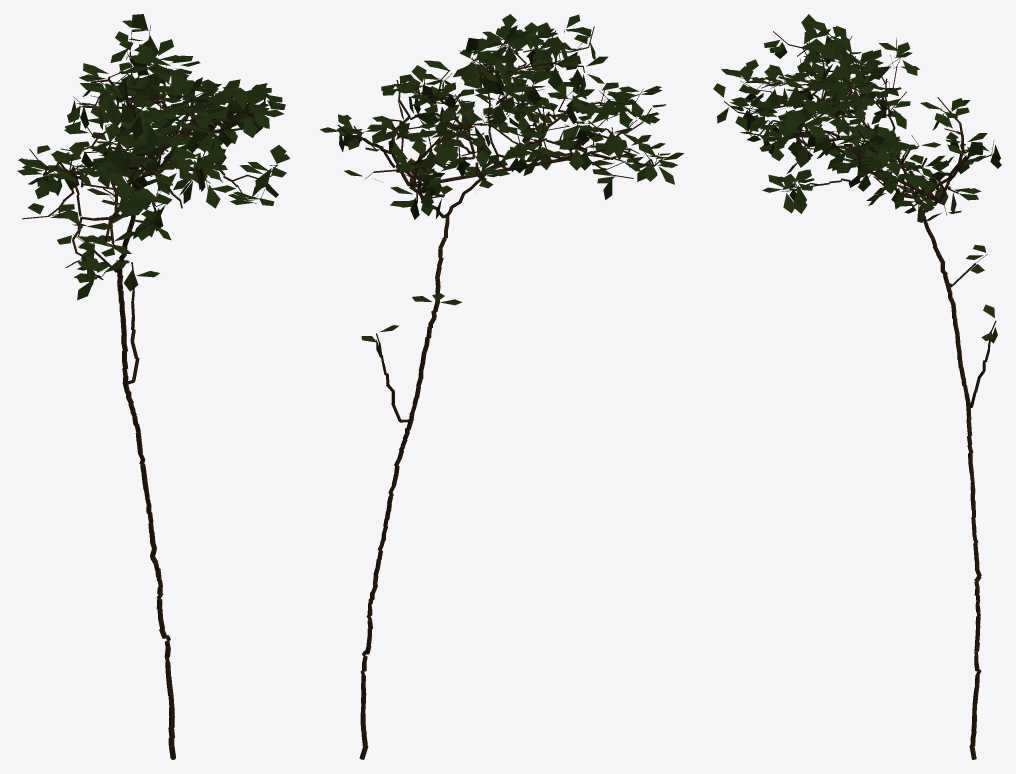
File: tree_453.obj
The picture shows the model from 3 angles, left to right: view 1: azimuth 30°, elevation 25°; view 2: azimuth 150°, elevation 25°; view 3: azimuth 270°, elevation 25°; orthographic projection. The views are drawn at different scales.
Parts seen in each view (by area): view 1: Leaves, TrunkAndBranches; view 2: Leaves, TrunkAndBranches; view 3: Leaves, TrunkAndBranches.
Part boxes in pixels (x1,y1,x2,y2): Leaves: [17, 14, 289, 300]; TrunkAndBranches: [22, 25, 277, 759]; Leaves: [320, 14, 683, 357]; TrunkAndBranches: [337, 26, 662, 759]; Leaves: [713, 14, 1001, 343]; TrunkAndBranches: [724, 31, 996, 759].
Size of the model in its own units: 3.91 by 9.29 by 3.53.
